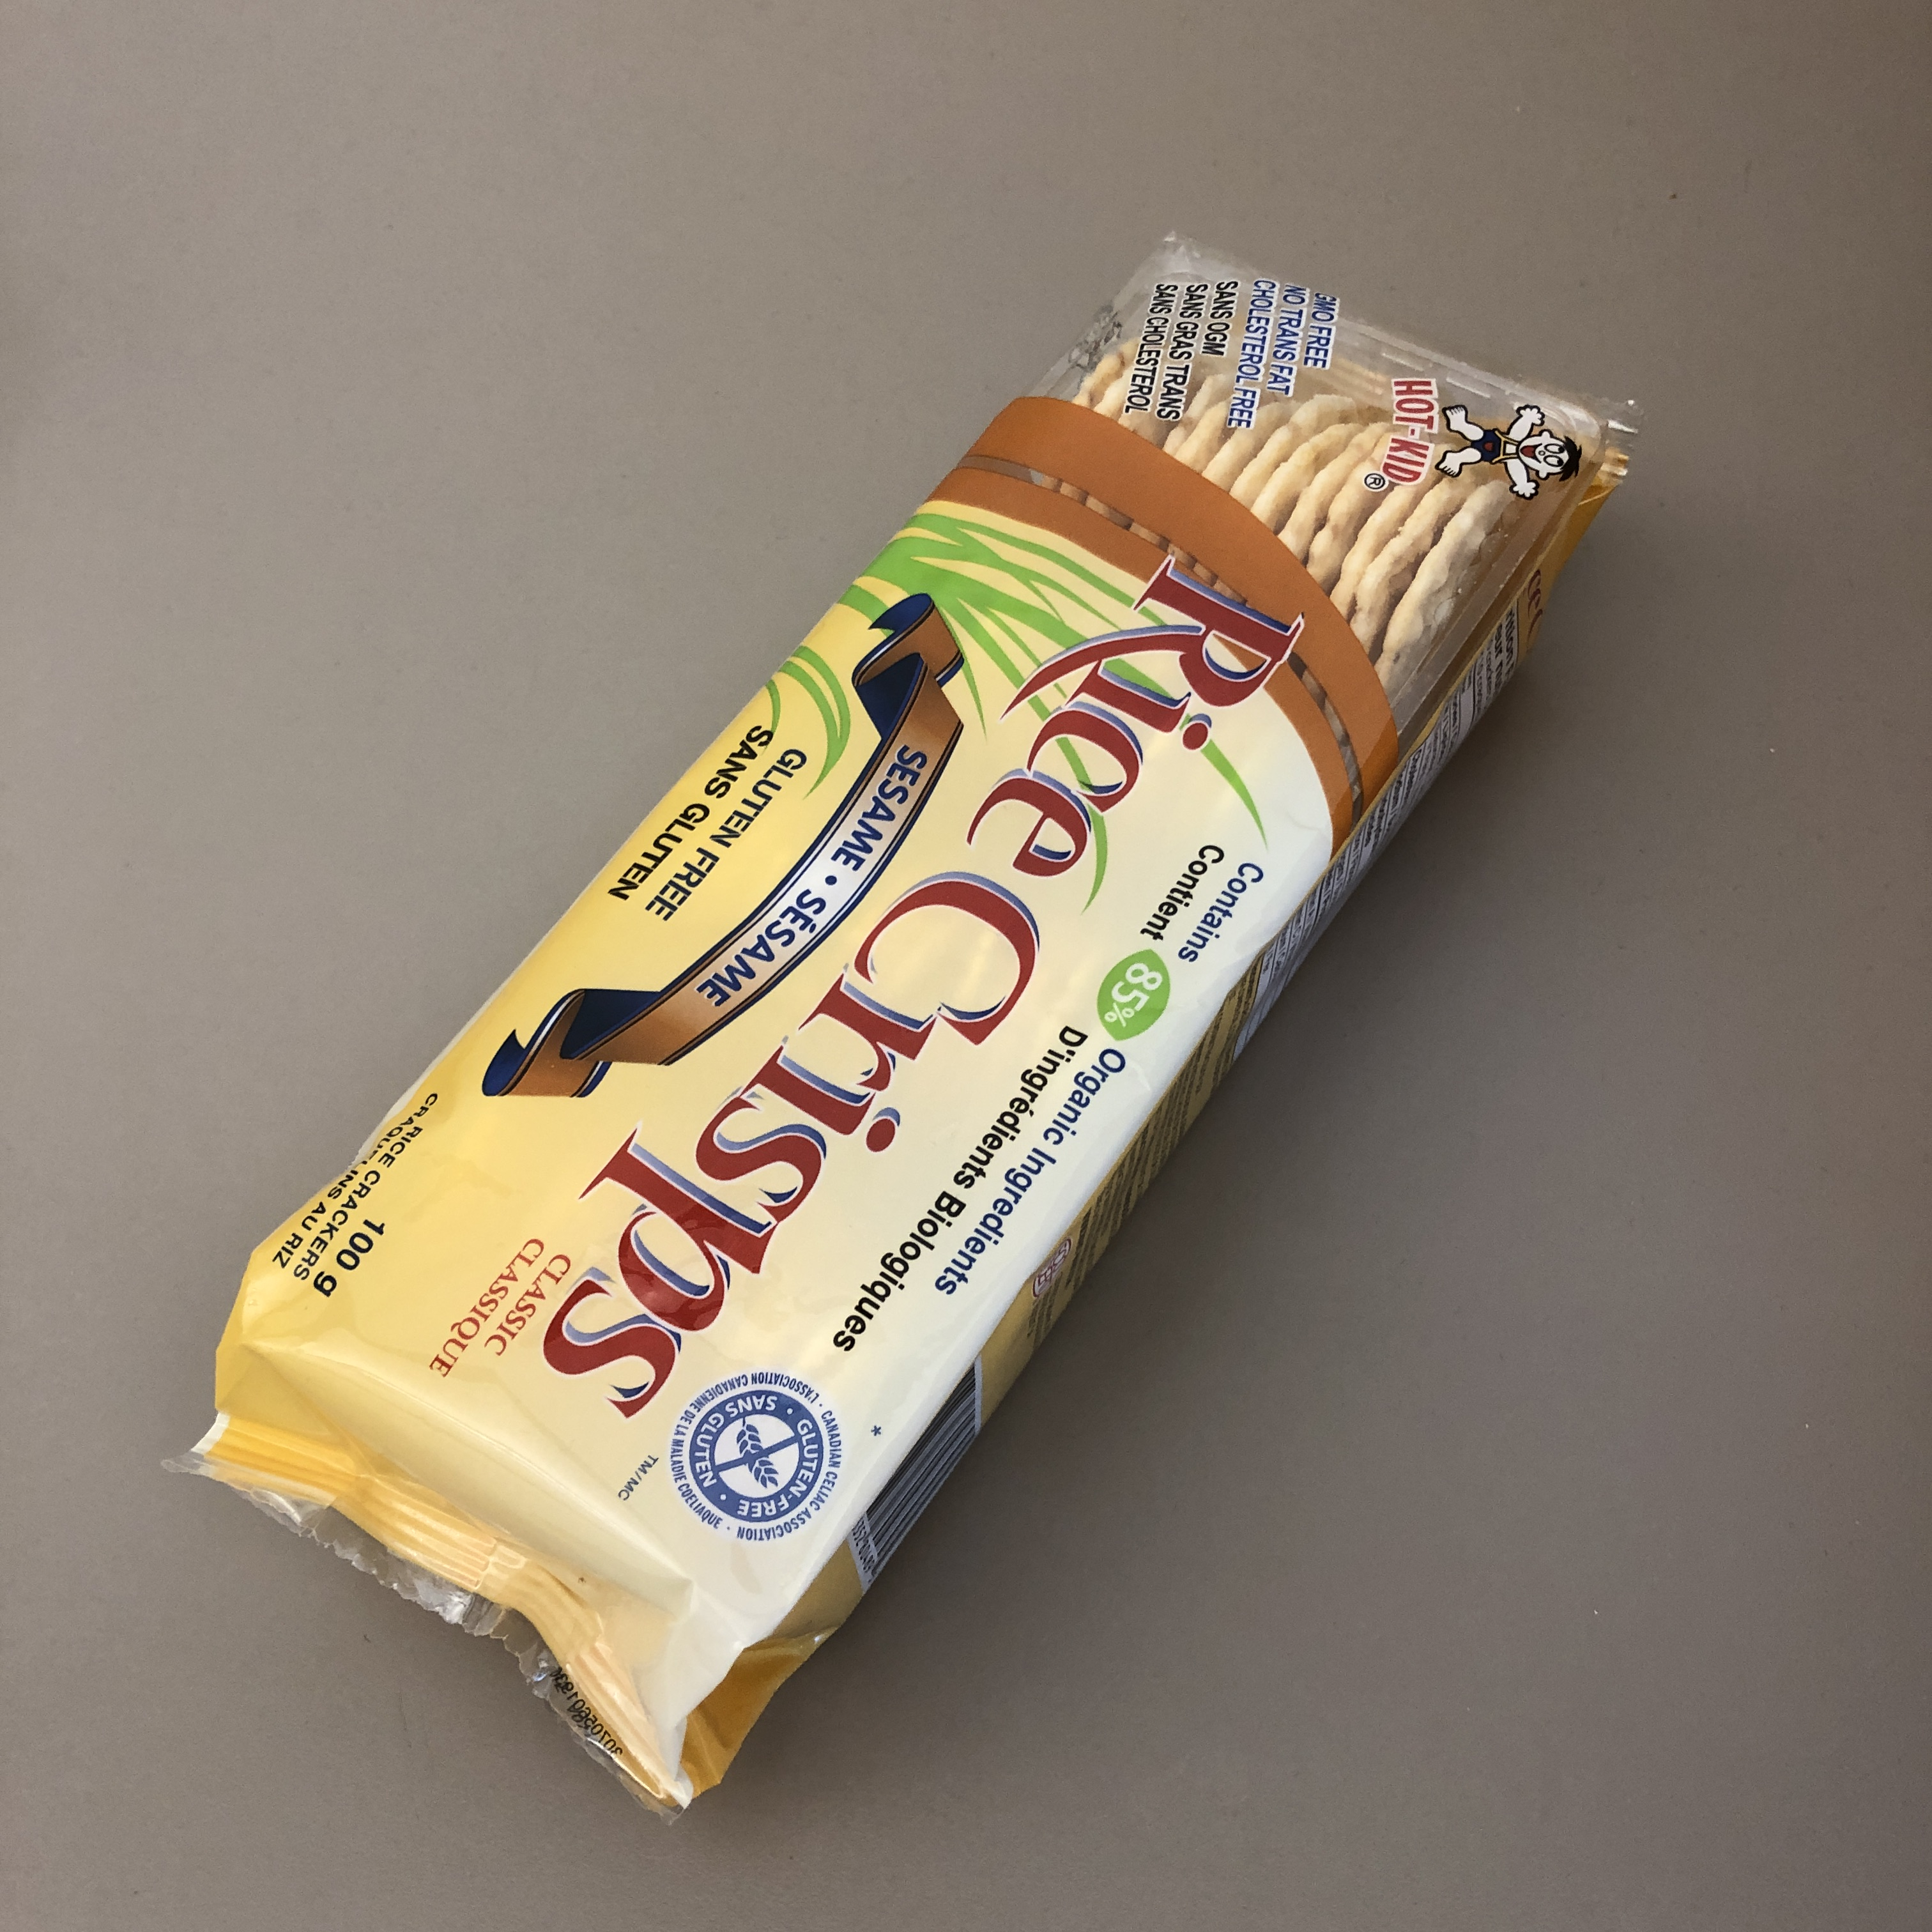hot_kid_rice_crisps_sesame: (278, 583, 1526, 1551)
